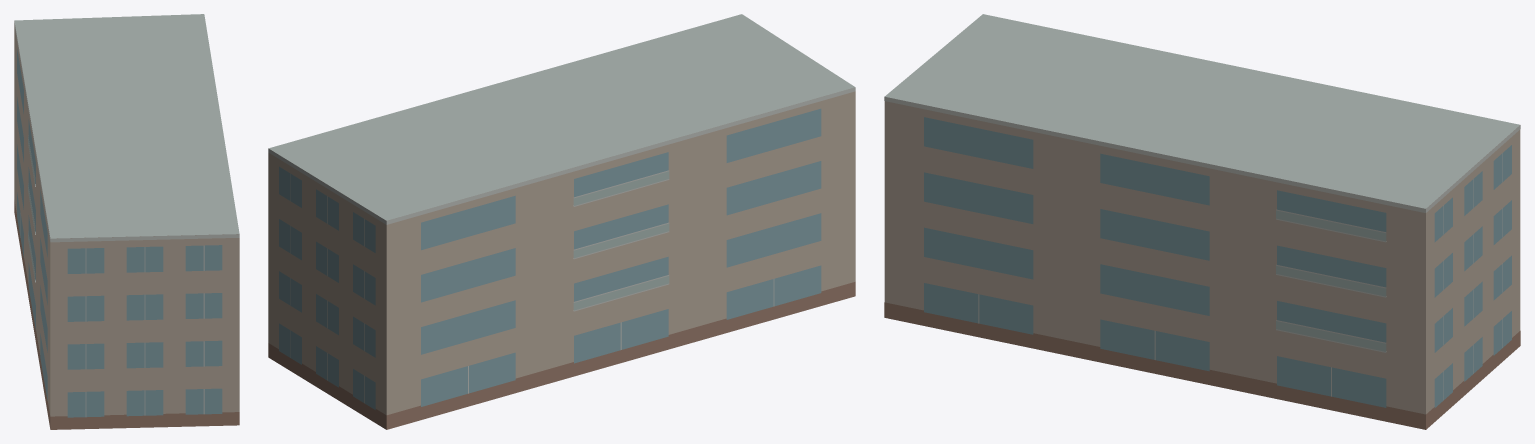
File: survey-upis-32952236.glb
3 views of the same model, side by side, from view 1: azimuth 30°, elevation 25°; view 2: azimuth 150°, elevation 25°; view 3: azimuth 270°, elevation 25° (orthographic). The views are drawn at different scales.
Visible parts, largest first — view 1: survey-upis-32952236.tmp; view 2: survey-upis-32952236.tmp; view 3: survey-upis-32952236.tmp.
Boxes of the visible parts, bbox=[...] form: survey-upis-32952236.tmp: bbox=[14, 14, 239, 429]; survey-upis-32952236.tmp: bbox=[268, 14, 855, 429]; survey-upis-32952236.tmp: bbox=[884, 14, 1520, 429].
Size of the model in its own units: 23.45 by 12.4 by 32.34.
